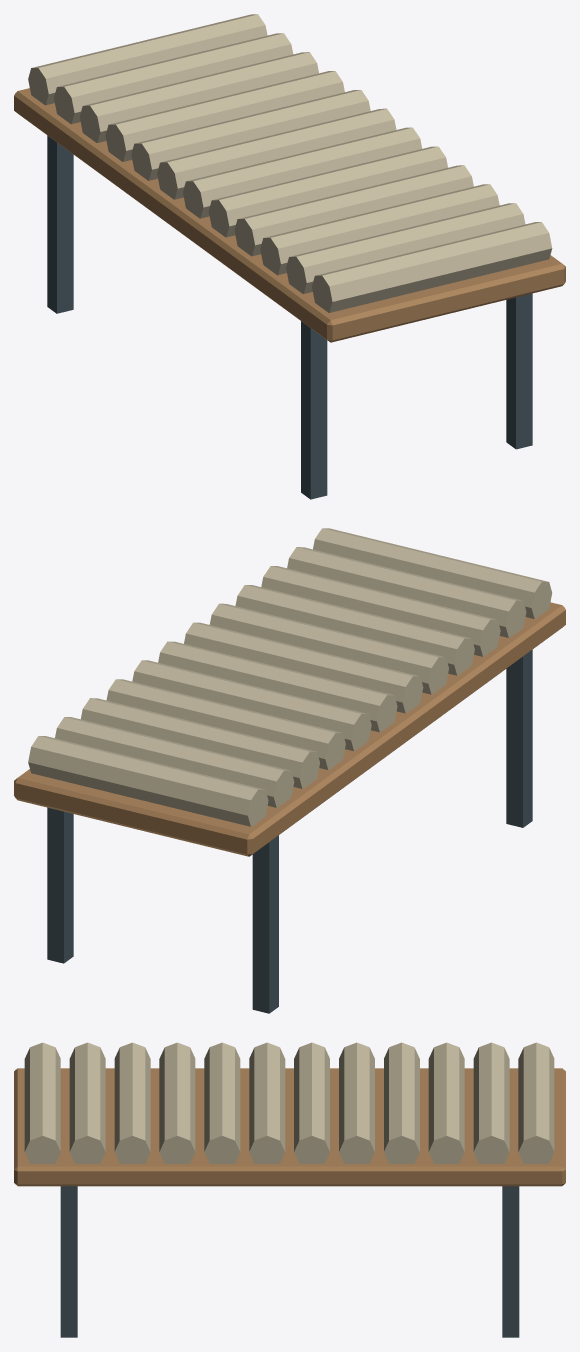
Rendered from conveyor.glb.
The picture shows the model from 3 angles, top to bottom: view 1: azimuth 30°, elevation 25°; view 2: azimuth 150°, elevation 25°; view 3: azimuth 270°, elevation 25°; orthographic projection. The views are drawn at different scales.
Visible parts, largest first — view 1: conveyor; view 2: conveyor; view 3: conveyor.
Boxes of the visible parts, left/top/right/bottom form: conveyor: left=14, top=14, right=565, bottom=499; conveyor: left=14, top=528, right=565, bottom=1013; conveyor: left=14, top=1042, right=565, bottom=1337.
Size of the model in its own units: 1 by 0.925 by 2.3.
